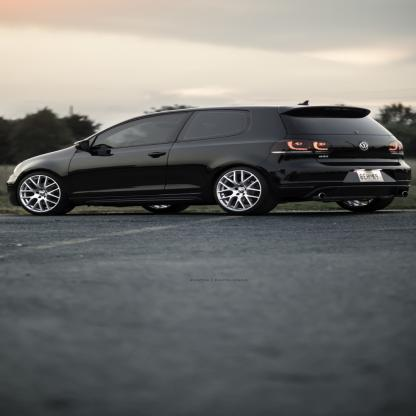car: (4, 98, 412, 216)
